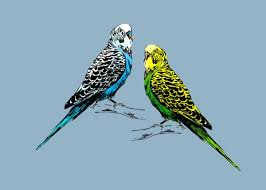budgie: (49, 24, 134, 140), (143, 44, 219, 149)
